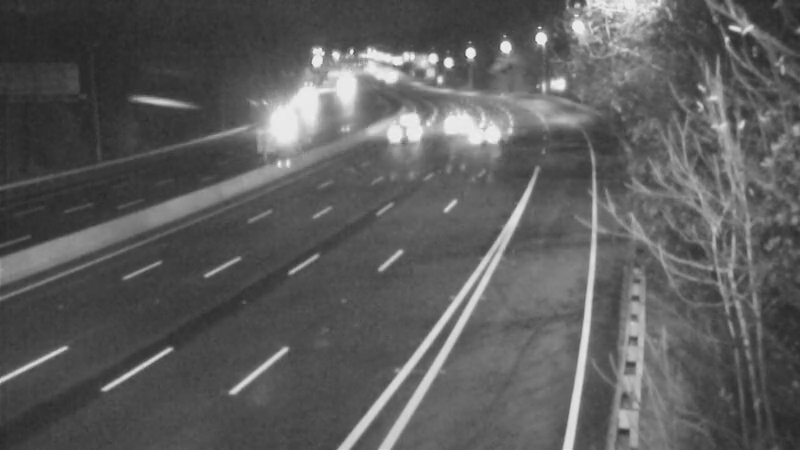vehicle: (429, 95, 479, 145), (463, 107, 513, 157), (387, 101, 437, 151), (257, 101, 307, 151), (322, 54, 372, 104)
